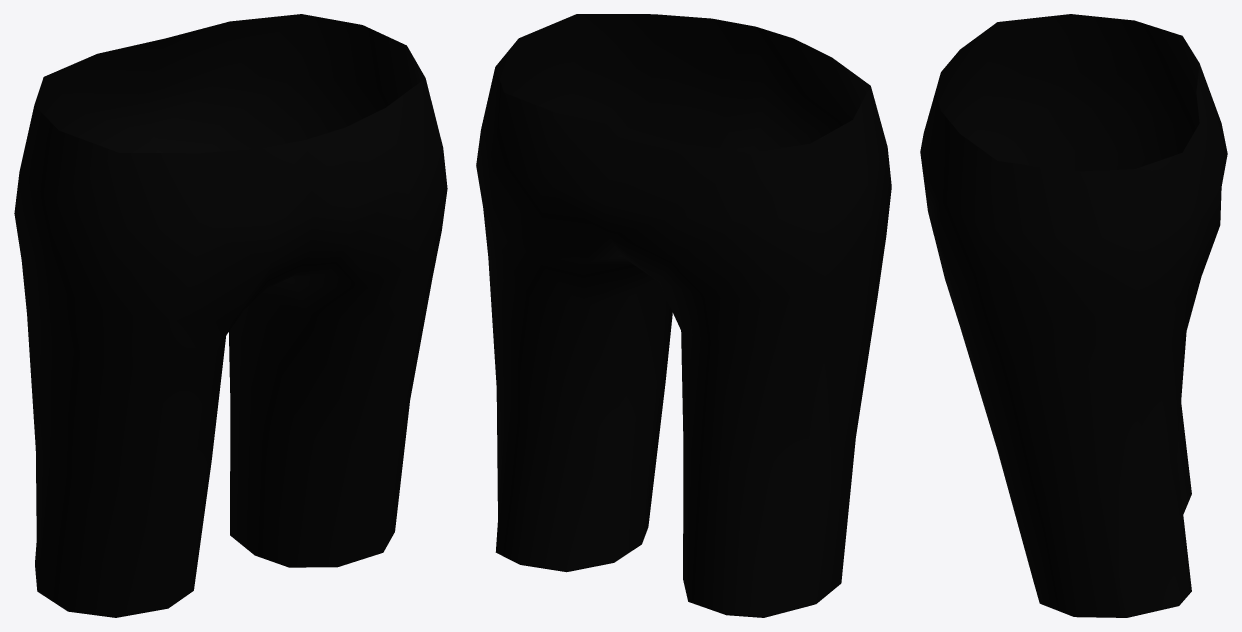
Rendered from AF_M_Trousers_02.fbx.
3 views of the same model, side by side, from view 1: azimuth 30°, elevation 25°; view 2: azimuth 150°, elevation 25°; view 3: azimuth 270°, elevation 25° (orthographic). The views are drawn at different scales.
Visible parts, largest first — view 1: AF_M_Trousers_02; view 2: AF_M_Trousers_02; view 3: AF_M_Trousers_02.
Part boxes in pixels (<box>): AF_M_Trousers_02: <box>14,14,447,617</box>; AF_M_Trousers_02: <box>476,14,891,617</box>; AF_M_Trousers_02: <box>920,14,1227,617</box>.
Size of the model in its own units: 343 by 427 by 262.
